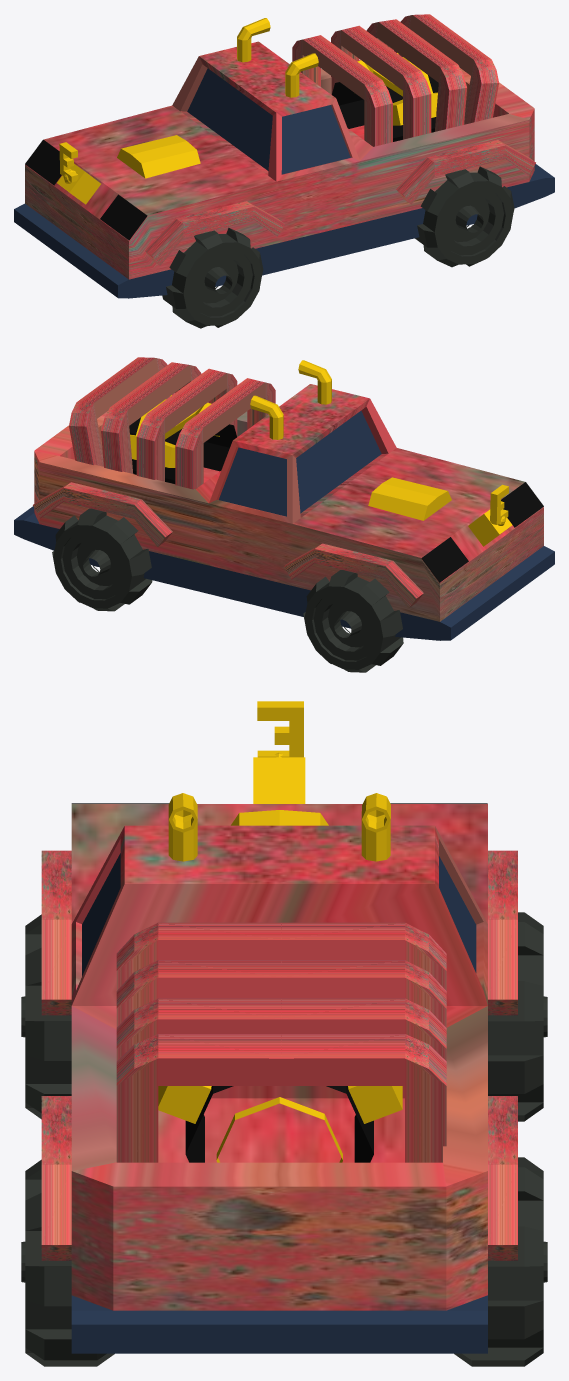
Rendered from Racing_Bros_car.obj.
The picture shows the model from 3 angles, top to bottom: view 1: azimuth 30°, elevation 25°; view 2: azimuth 150°, elevation 25°; view 3: azimuth 270°, elevation 25°; orthographic projection. The views are drawn at different scales.
Visible parts, largest first — view 1: Racing_Bros_Car, Bottom, WheelFrontLeft, WheelRearLeft, Window.001, Iron_Loops, Iron_Loops.001, Iron_Loops.002, Iron_Loops.003, Window, FrontLeftWheelPart, RearWheelLeftPart (+10 smaller); view 2: Racing_Bros_Car, Bottom, WheelFrontRight, WheelRearRight, Window.001, Iron_Loops, Iron_Loops.001, Iron_Loops.002, Iron_Loops.003, Window.002, FrontWheelRightPart, RearWheelRightPart (+10 smaller); view 3: Racing_Bros_Car, Iron_Loops.003, Bottom, Iron_Loops.001, Iron_Loops, Iron_Loops.002, WheelRearRight, WheelFrontRight, WheelRearLeft, WheelFrontLeft, FrontLeftWheelPart, RearWheelLeftPart (+11 smaller).
Part boxes in pixels (x1=…): Racing_Bros_Car: x1=25, y1=41, x2=534, y2=279; Bottom: x1=14, y1=164, x2=554, y2=298; WheelFrontLeft: x1=162, y1=227, x2=263, y2=328; WheelRearLeft: x1=415, y1=166, x2=514, y2=267; Window.001: x1=187, y1=68, x2=272, y2=170; Iron_Loops: x1=292, y1=35, x2=392, y2=146; Iron_Loops.001: x1=331, y1=25, x2=431, y2=139; Iron_Loops.002: x1=366, y1=19, x2=466, y2=131; Iron_Loops.003: x1=394, y1=14, x2=498, y2=124; Window: x1=281, y1=105, x2=350, y2=174; FrontLeftWheelPart: x1=145, y1=201, x2=284, y2=265; RearWheelLeftPart: x1=396, y1=140, x2=535, y2=204; Racing_Bros_Car: x1=34, y1=384, x2=543, y2=621; Bottom: x1=14, y1=506, x2=554, y2=640; WheelFrontRight: x1=303, y1=570, x2=403, y2=672; WheelRearRight: x1=52, y1=508, x2=152, y2=611; Window.001: x1=296, y1=411, x2=381, y2=513; Iron_Loops: x1=175, y1=378, x2=275, y2=489; Iron_Loops.001: x1=136, y1=368, x2=237, y2=481; Iron_Loops.002: x1=101, y1=362, x2=201, y2=473; Iron_Loops.003: x1=69, y1=357, x2=173, y2=466; Window.002: x1=219, y1=447, x2=286, y2=516; FrontWheelRightPart: x1=284, y1=543, x2=423, y2=607; RearWheelRightPart: x1=33, y1=482, x2=172, y2=546; Racing_Bros_Car: x1=71, y1=804, x2=487, y2=1310; Iron_Loops.003: x1=116, y1=1034, x2=446, y2=1162; Bottom: x1=71, y1=1295, x2=487, y2=1353; Iron_Loops.001: x1=116, y1=960, x2=446, y2=1027; Iron_Loops: x1=116, y1=922, x2=446, y2=990; Iron_Loops.002: x1=116, y1=998, x2=446, y2=1060; WheelRearRight: x1=454, y1=1157, x2=547, y2=1366; WheelFrontRight: x1=488, y1=912, x2=547, y2=1121; WheelRearLeft: x1=21, y1=1159, x2=114, y2=1366; WheelFrontLeft: x1=21, y1=914, x2=71, y2=1119; FrontLeftWheelPart: x1=41, y1=850, x2=71, y2=1015; RearWheelLeftPart: x1=41, y1=1096, x2=71, y2=1260.
Bounding box in the file's own units: 4.88 × 2.3 × 2.53.
